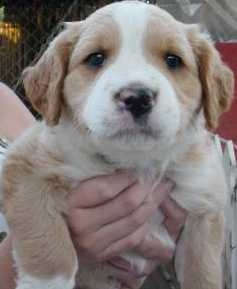Dog: (0, 1, 232, 279)
